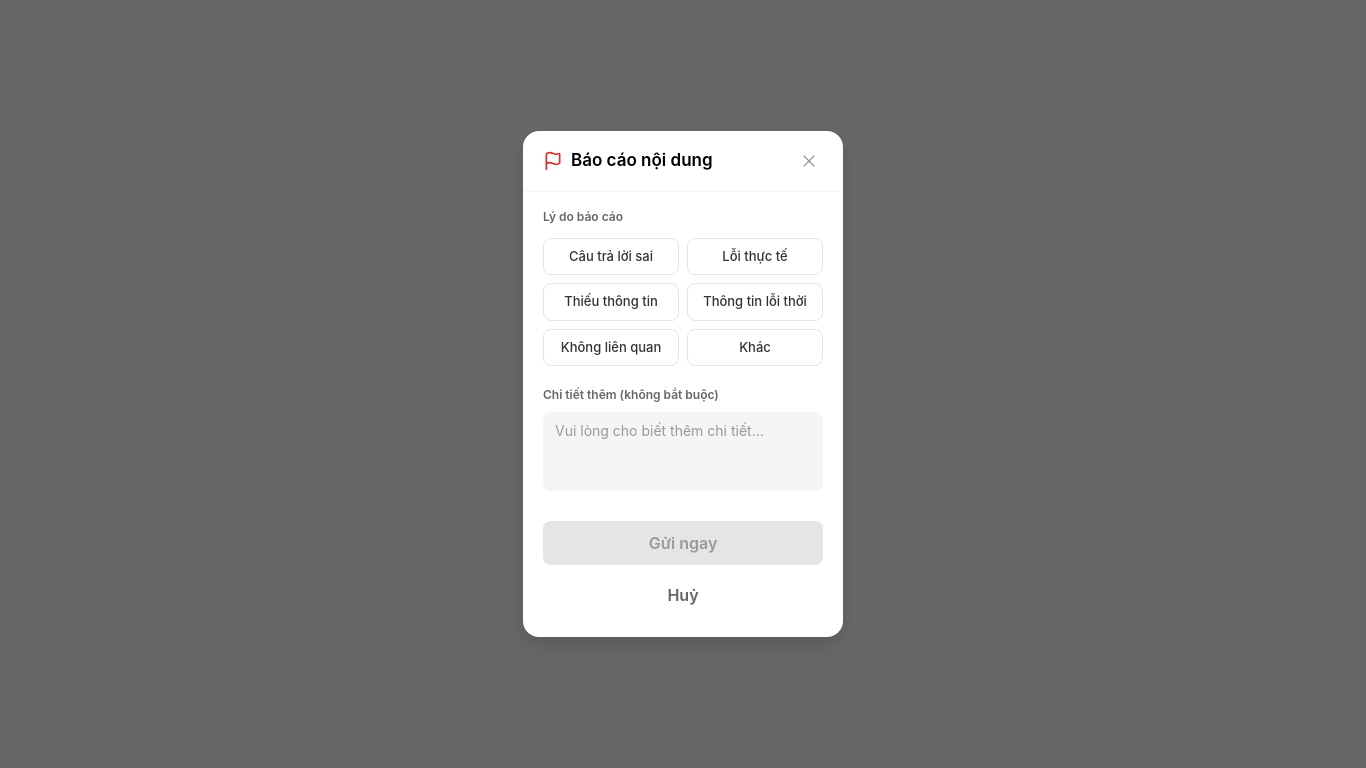
Test case: ReportModal › selects a problem type
# Click the first problem option
What coordinates should you click on to do the following:
click the button "Câu trả lời sai"
I would click on:
 (611, 257)
Its box is [543,238,679,275].
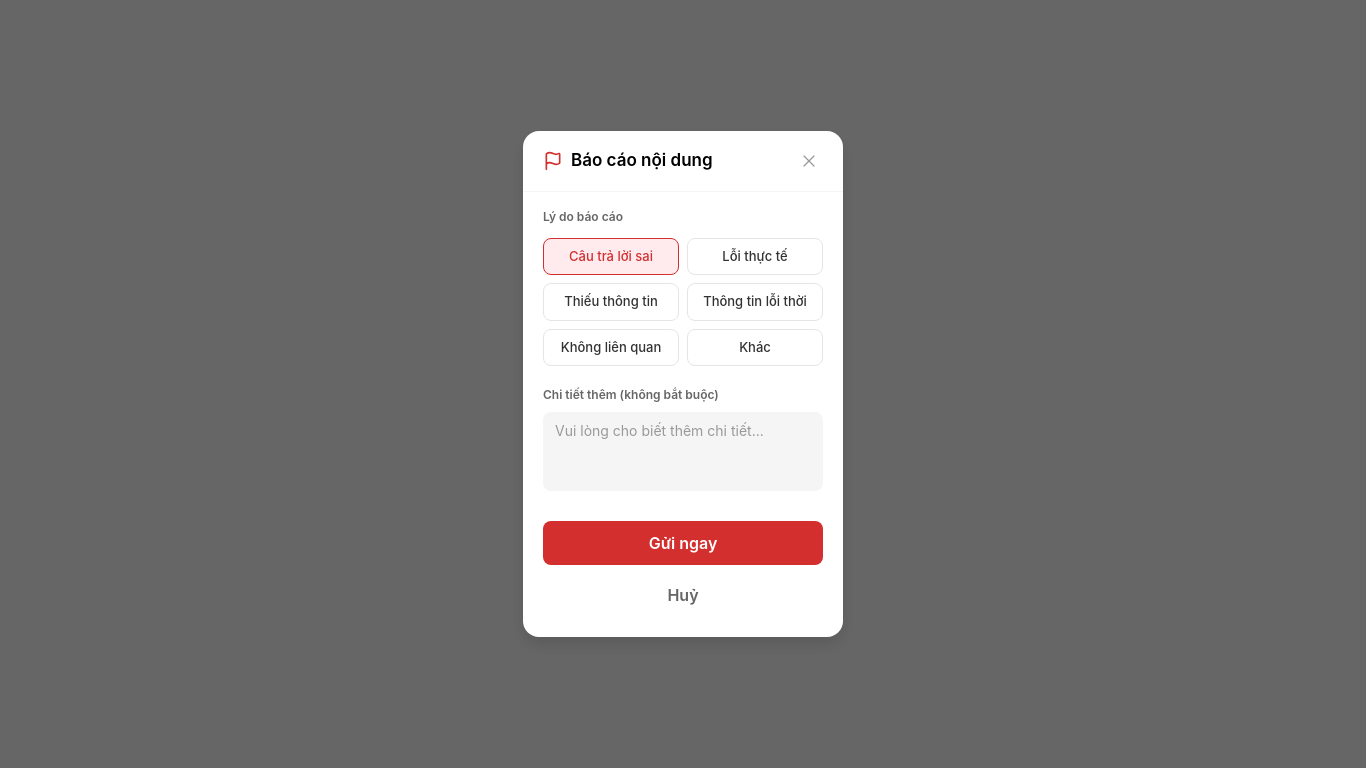
expect the button "Gửi ngay" is enabled: met, box [543,521,823,565]
